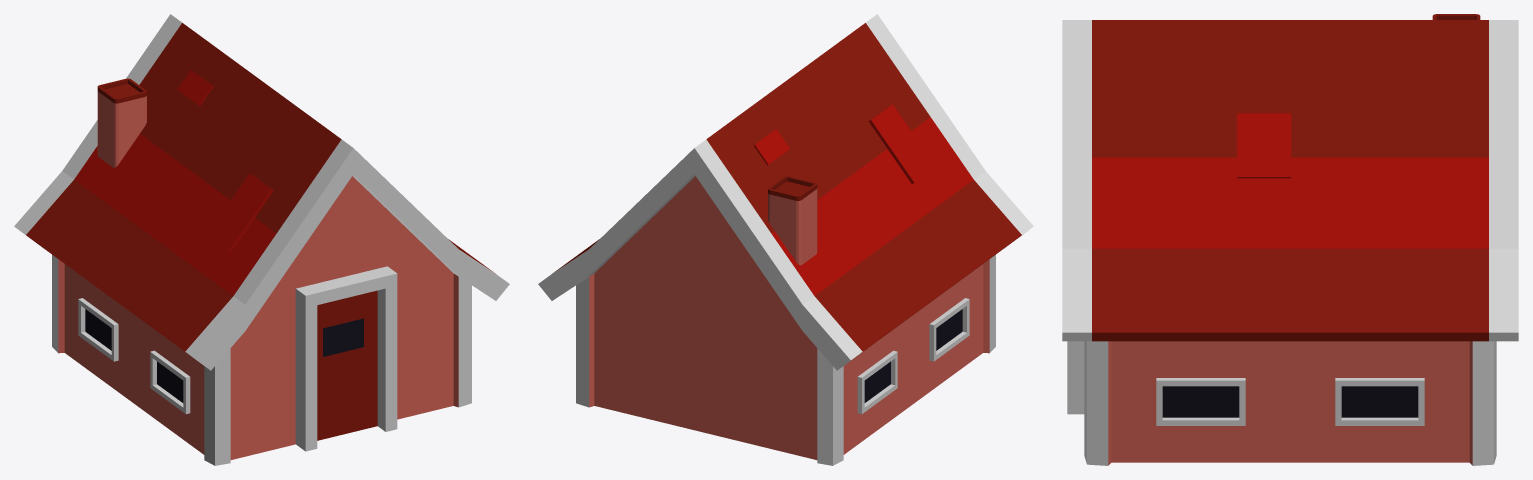
The model's file is Red_House.fbx.
3 views of the same model, side by side, from view 1: azimuth 30°, elevation 25°; view 2: azimuth 150°, elevation 25°; view 3: azimuth 270°, elevation 25° (orthographic). The views are drawn at different scales.
Visible parts, largest first — view 1: House red.001; view 2: House red.001; view 3: House red.001.
Part boxes in pixels (x1,y1,x2,y2): House red.001: (14, 14, 509, 465); House red.001: (538, 14, 1033, 465); House red.001: (1062, 14, 1518, 465).
Bounding box in the file's own units: 142 × 127 × 144.
